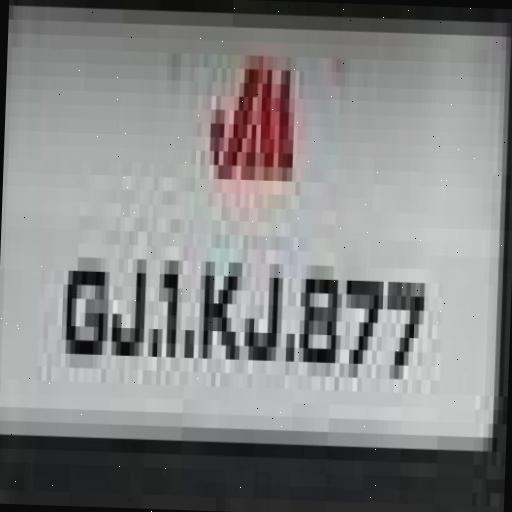number plate: (2, 33, 492, 464)
